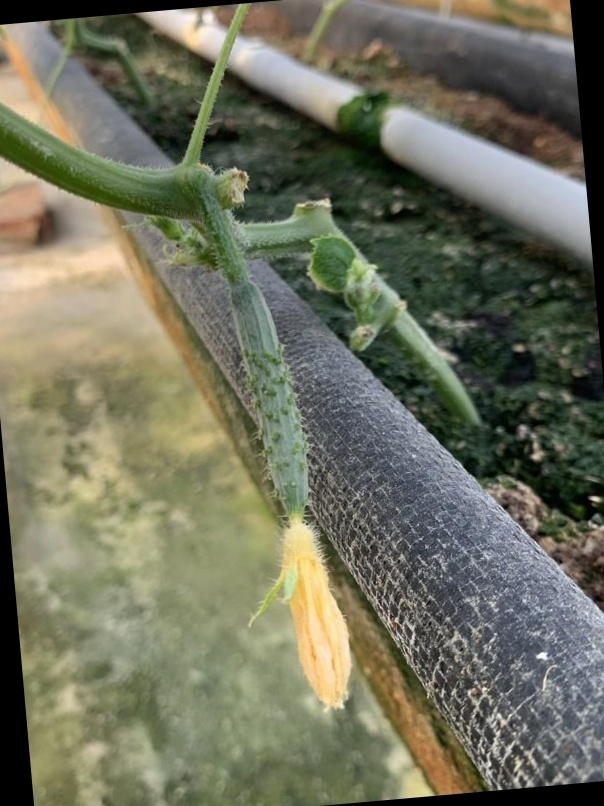bear: (213, 265, 370, 719)
